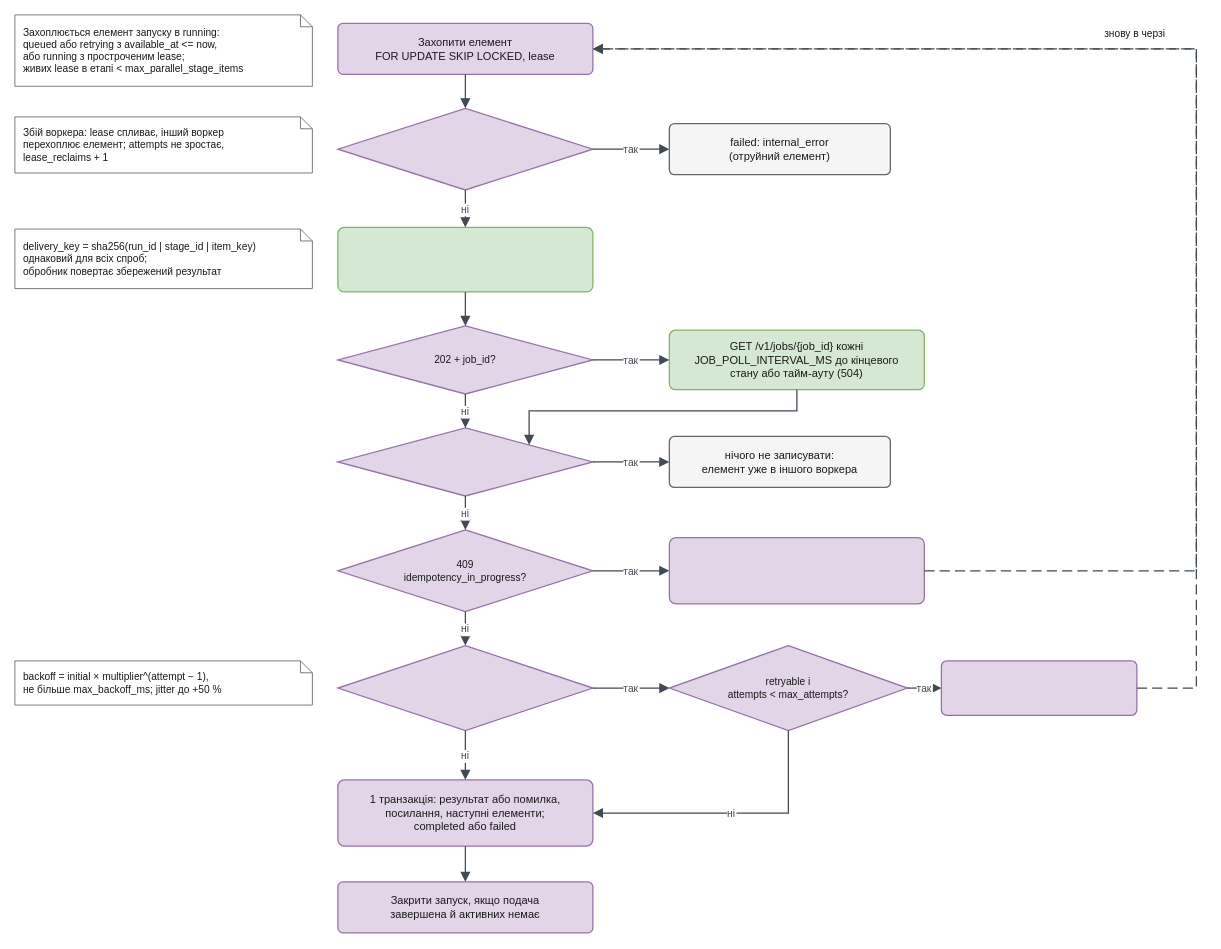
Some shapes in this 1221 by 949 pixel diagram are drawn without their labels. The box of each missing label's shape, as (x1, y1, x2, y2) in pixels:
lease втрачено?: (337, 427, 593, 496)
lease_reclaims > MAX_LEASE_RECLAIMS?: (337, 107, 593, 190)
POST /v1/invocations Idempotency-Key = delivery_key; heartbeat продовжує lease: (337, 226, 593, 292)
retrying: available_at = now + backoff: (940, 660, 1137, 716)
помилка або результат failed з failure.retryable?: (337, 645, 593, 731)
чекати до …_MAX_WAIT_MS, далі retrying через …_RETRY_MS; спроба не витрачається: (668, 537, 925, 604)
